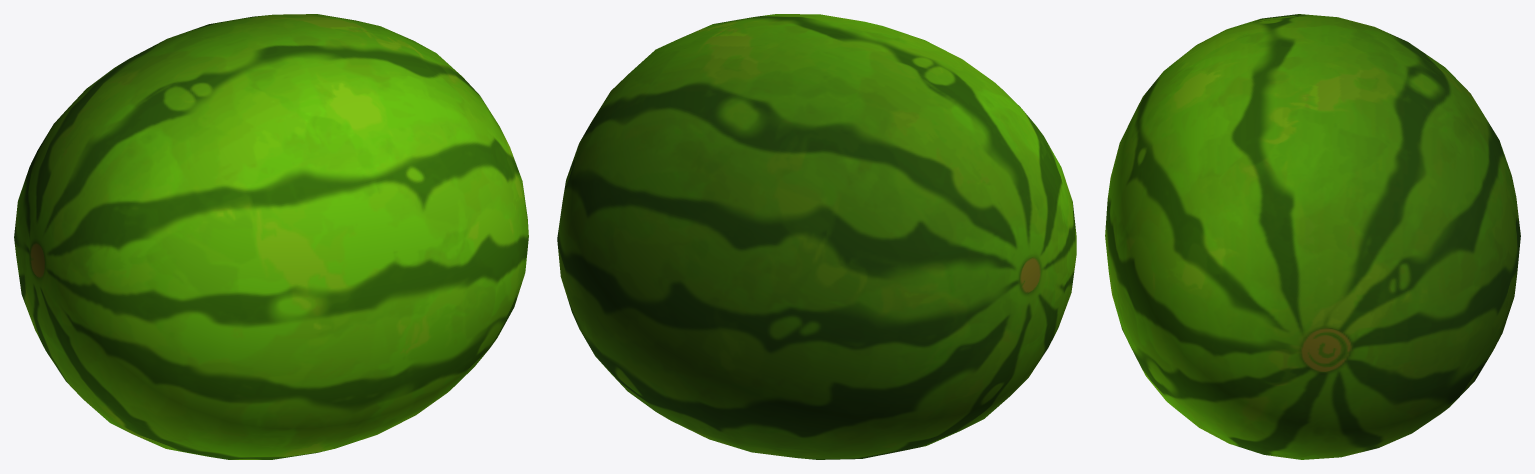
Rendered from SM_Watermelon.fbx.
The picture shows the model from 3 angles, left to right: view 1: azimuth 30°, elevation 25°; view 2: azimuth 150°, elevation 25°; view 3: azimuth 270°, elevation 25°; orthographic projection. The views are drawn at different scales.
Parts seen in each view (by area): view 1: SM_Watermelon; view 2: SM_Watermelon; view 3: SM_Watermelon.
Part boxes in pixels (x1,y1,x2,y2): SM_Watermelon: (14,14,528,459); SM_Watermelon: (557,14,1076,459); SM_Watermelon: (1105,14,1520,459).
Size of the model in its own units: 38.78 by 32.56 by 32.53.
1 material, 1 textured.
